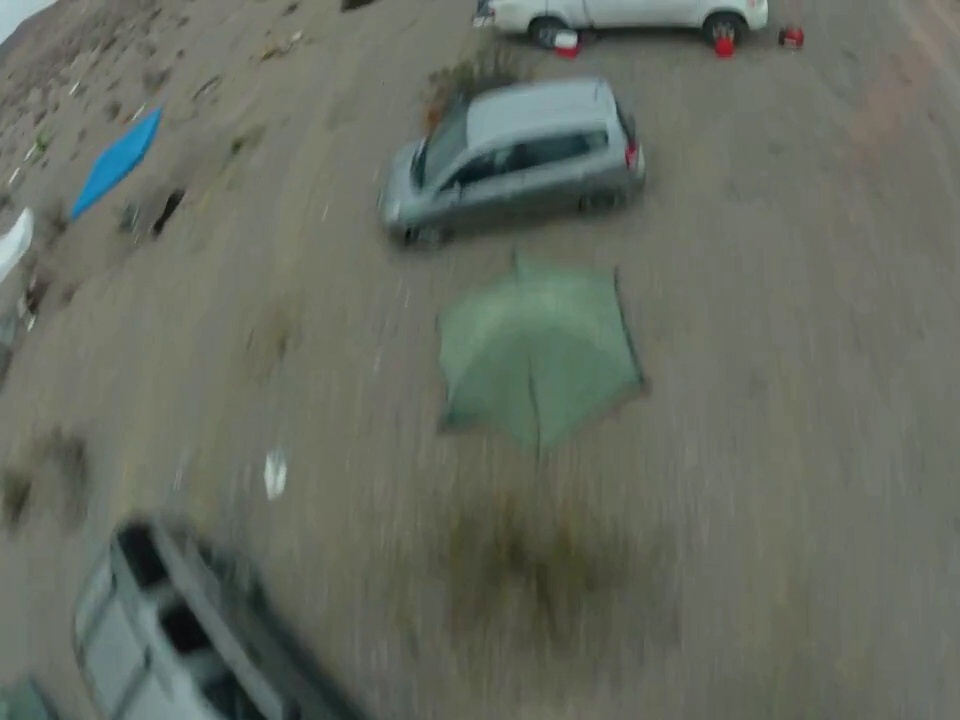araba: (364, 72, 648, 250)
